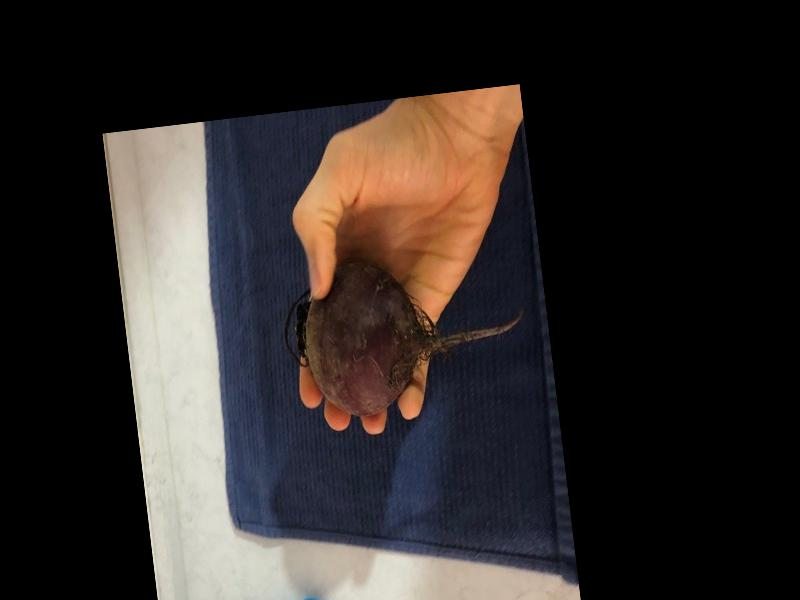Beet: (277, 243, 533, 424)
